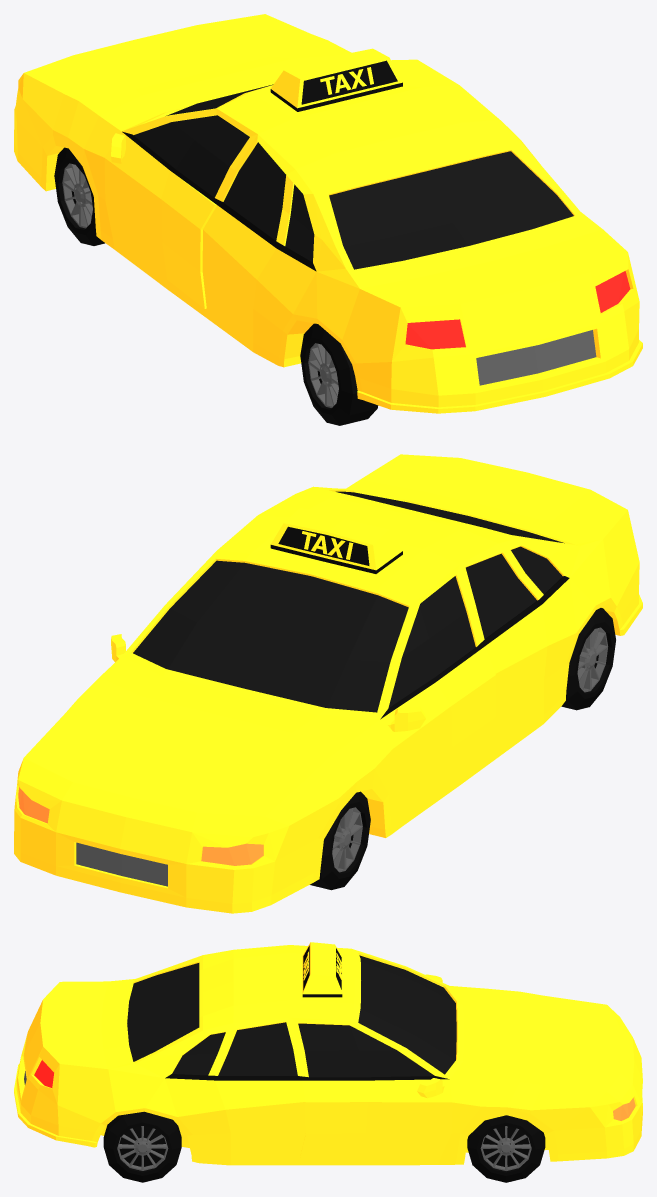
3 views of the same model, one above another, from view 1: azimuth 30°, elevation 25°; view 2: azimuth 150°, elevation 25°; view 3: azimuth 270°, elevation 25° (orthographic). The views are drawn at different scales.
Parts seen in each view (by area): view 1: Taxi, Taxi_BackWheels, Taxi_FrontLeftWheel; view 2: Taxi, Taxi_BackWheels, Taxi_FrontLeftWheel; view 3: Taxi, Taxi_BackWheels, Taxi_FrontRightWheel.
Part boxes in pixels (x1=…): Taxi: x1=14, y1=14, x2=642, y2=413; Taxi_BackWheels: x1=300, y1=323, x2=378, y2=425; Taxi_FrontLeftWheel: x1=54, y1=147, x2=104, y2=245; Taxi: x1=14, y1=454, x2=642, y2=913; Taxi_BackWheels: x1=561, y1=608, x2=615, y2=710; Taxi_FrontLeftWheel: x1=310, y1=791, x2=370, y2=890; Taxi: x1=14, y1=942, x2=642, y2=1165; Taxi_BackWheels: x1=103, y1=1111, x2=181, y2=1182; Taxi_FrontRightWheel: x1=467, y1=1115, x2=545, y2=1182.
Size of the model in its own units: 9.04 by 6.55 by 21.1.
